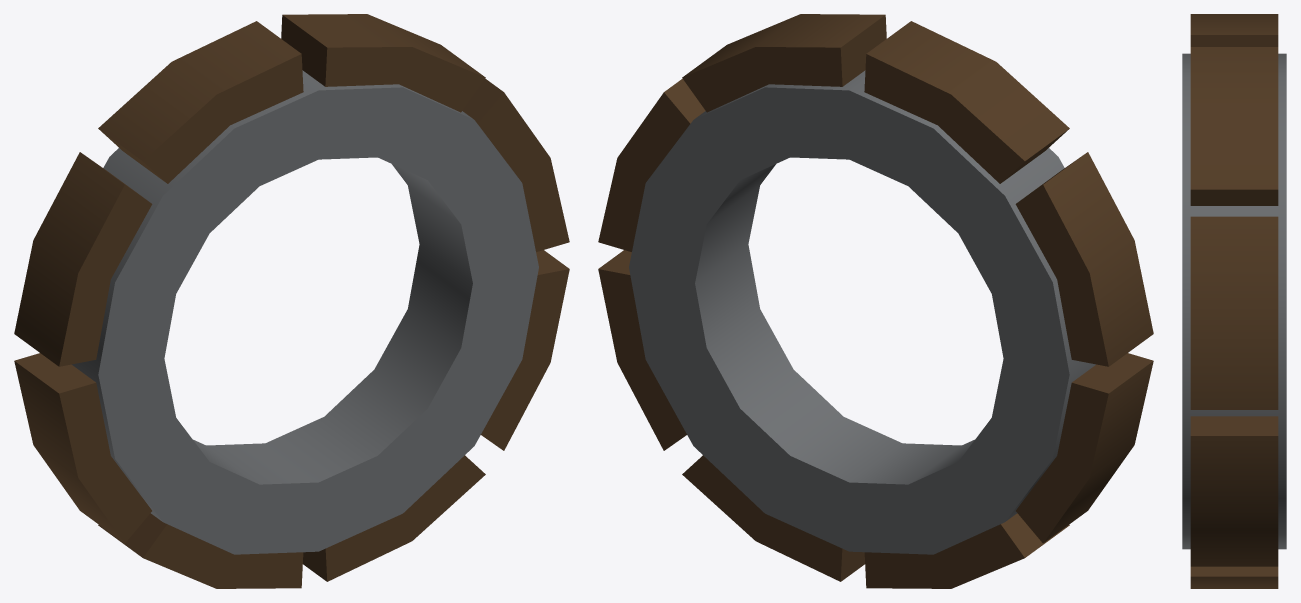
Rendered from u33_coil_ring.obj.
3 renders of one model, left to right at view 1: azimuth 30°, elevation 25°; view 2: azimuth 150°, elevation 25°; view 3: azimuth 270°, elevation 25°, orthographic. The views are drawn at different scales.
Parts seen in each view (by area): view 1: u33_coil_ring; view 2: u33_coil_ring; view 3: u33_coil_ring.
Boxes of the visible parts, box(x1,y1,x2,y2) form: u33_coil_ring: box(14, 14, 569, 588); u33_coil_ring: box(598, 14, 1153, 588); u33_coil_ring: box(1182, 14, 1286, 588).
Bounding box in the file's own units: 3.48 × 3.48 × 0.63.
